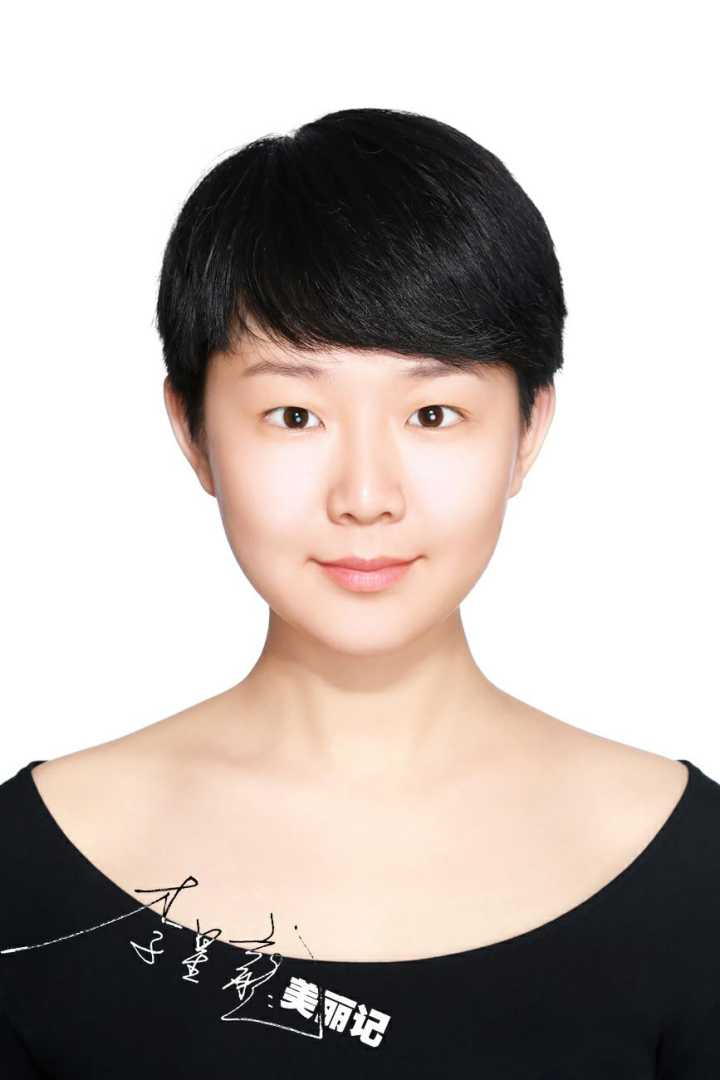unmask: (211, 339, 526, 626)
